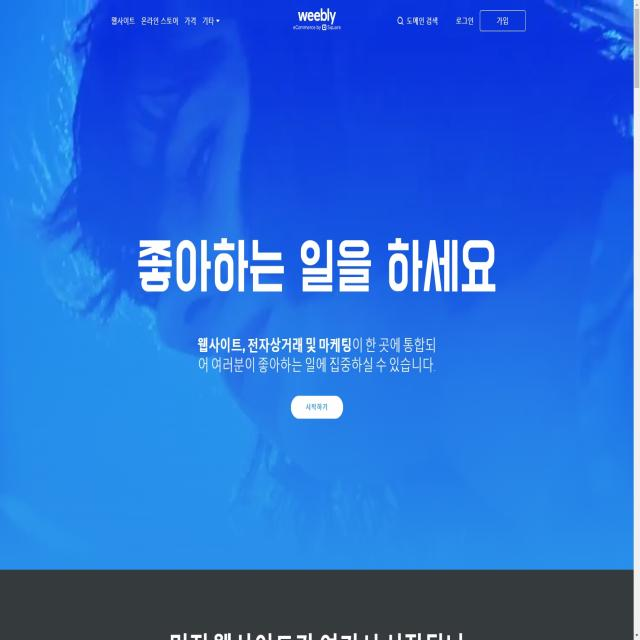menu-bar: (391, 6, 527, 32), (104, 9, 224, 30)
